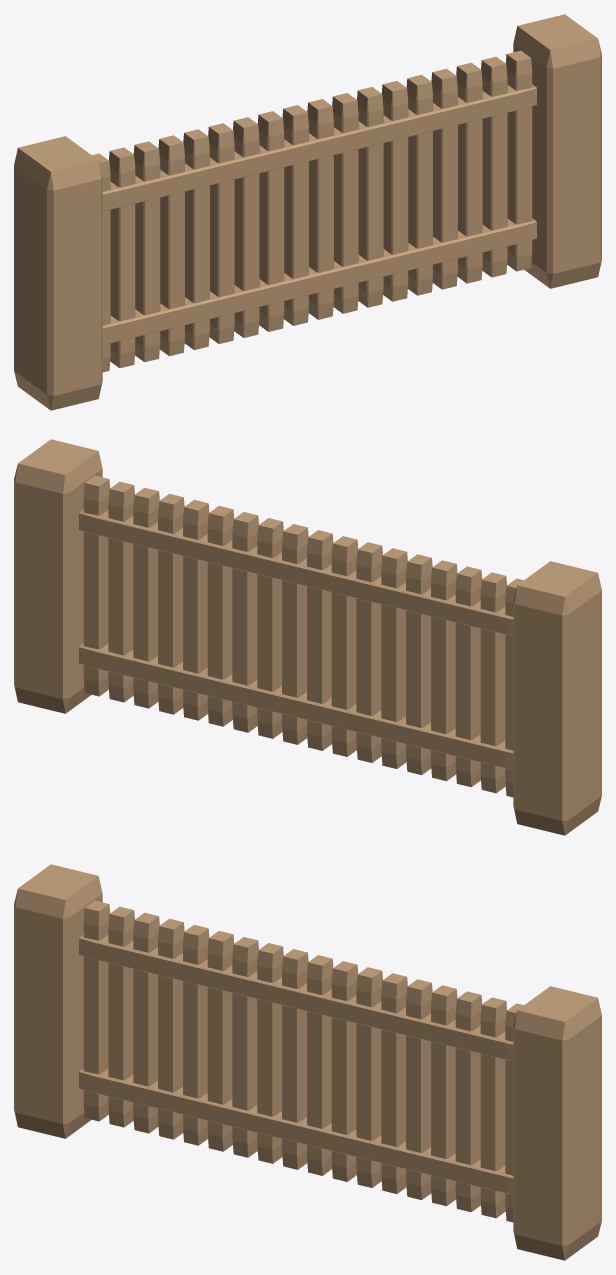
File: b19_sliding_timber_driveway_gate.glb
3 views of the same model, one above another, from view 1: azimuth 30°, elevation 25°; view 2: azimuth 150°, elevation 25°; view 3: azimuth 330°, elevation 25° (orthographic).
Parts seen in each view (by area): view 1: b19_sliding_timber_driveway_gate; view 2: b19_sliding_timber_driveway_gate; view 3: b19_sliding_timber_driveway_gate.
Boxes of the visible parts, x1=… form: b19_sliding_timber_driveway_gate: x1=14, y1=14, x2=601, y2=410; b19_sliding_timber_driveway_gate: x1=14, y1=439, x2=601, y2=835; b19_sliding_timber_driveway_gate: x1=14, y1=864, x2=601, y2=1260.
Size of the model in its own units: 4.75 by 1.95 by 0.571.
